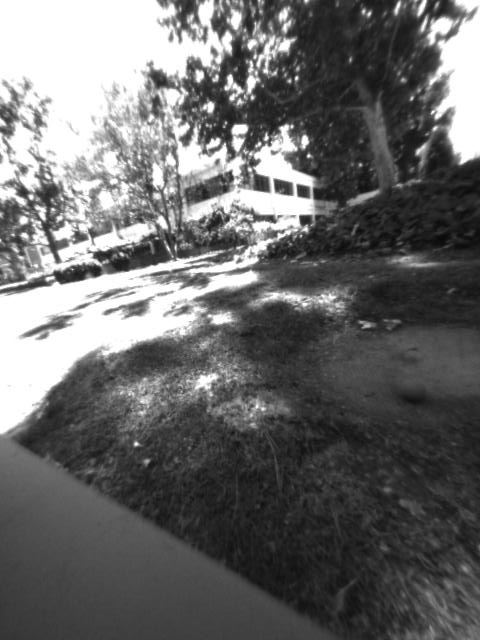dogtoy: (392, 369, 432, 413)
